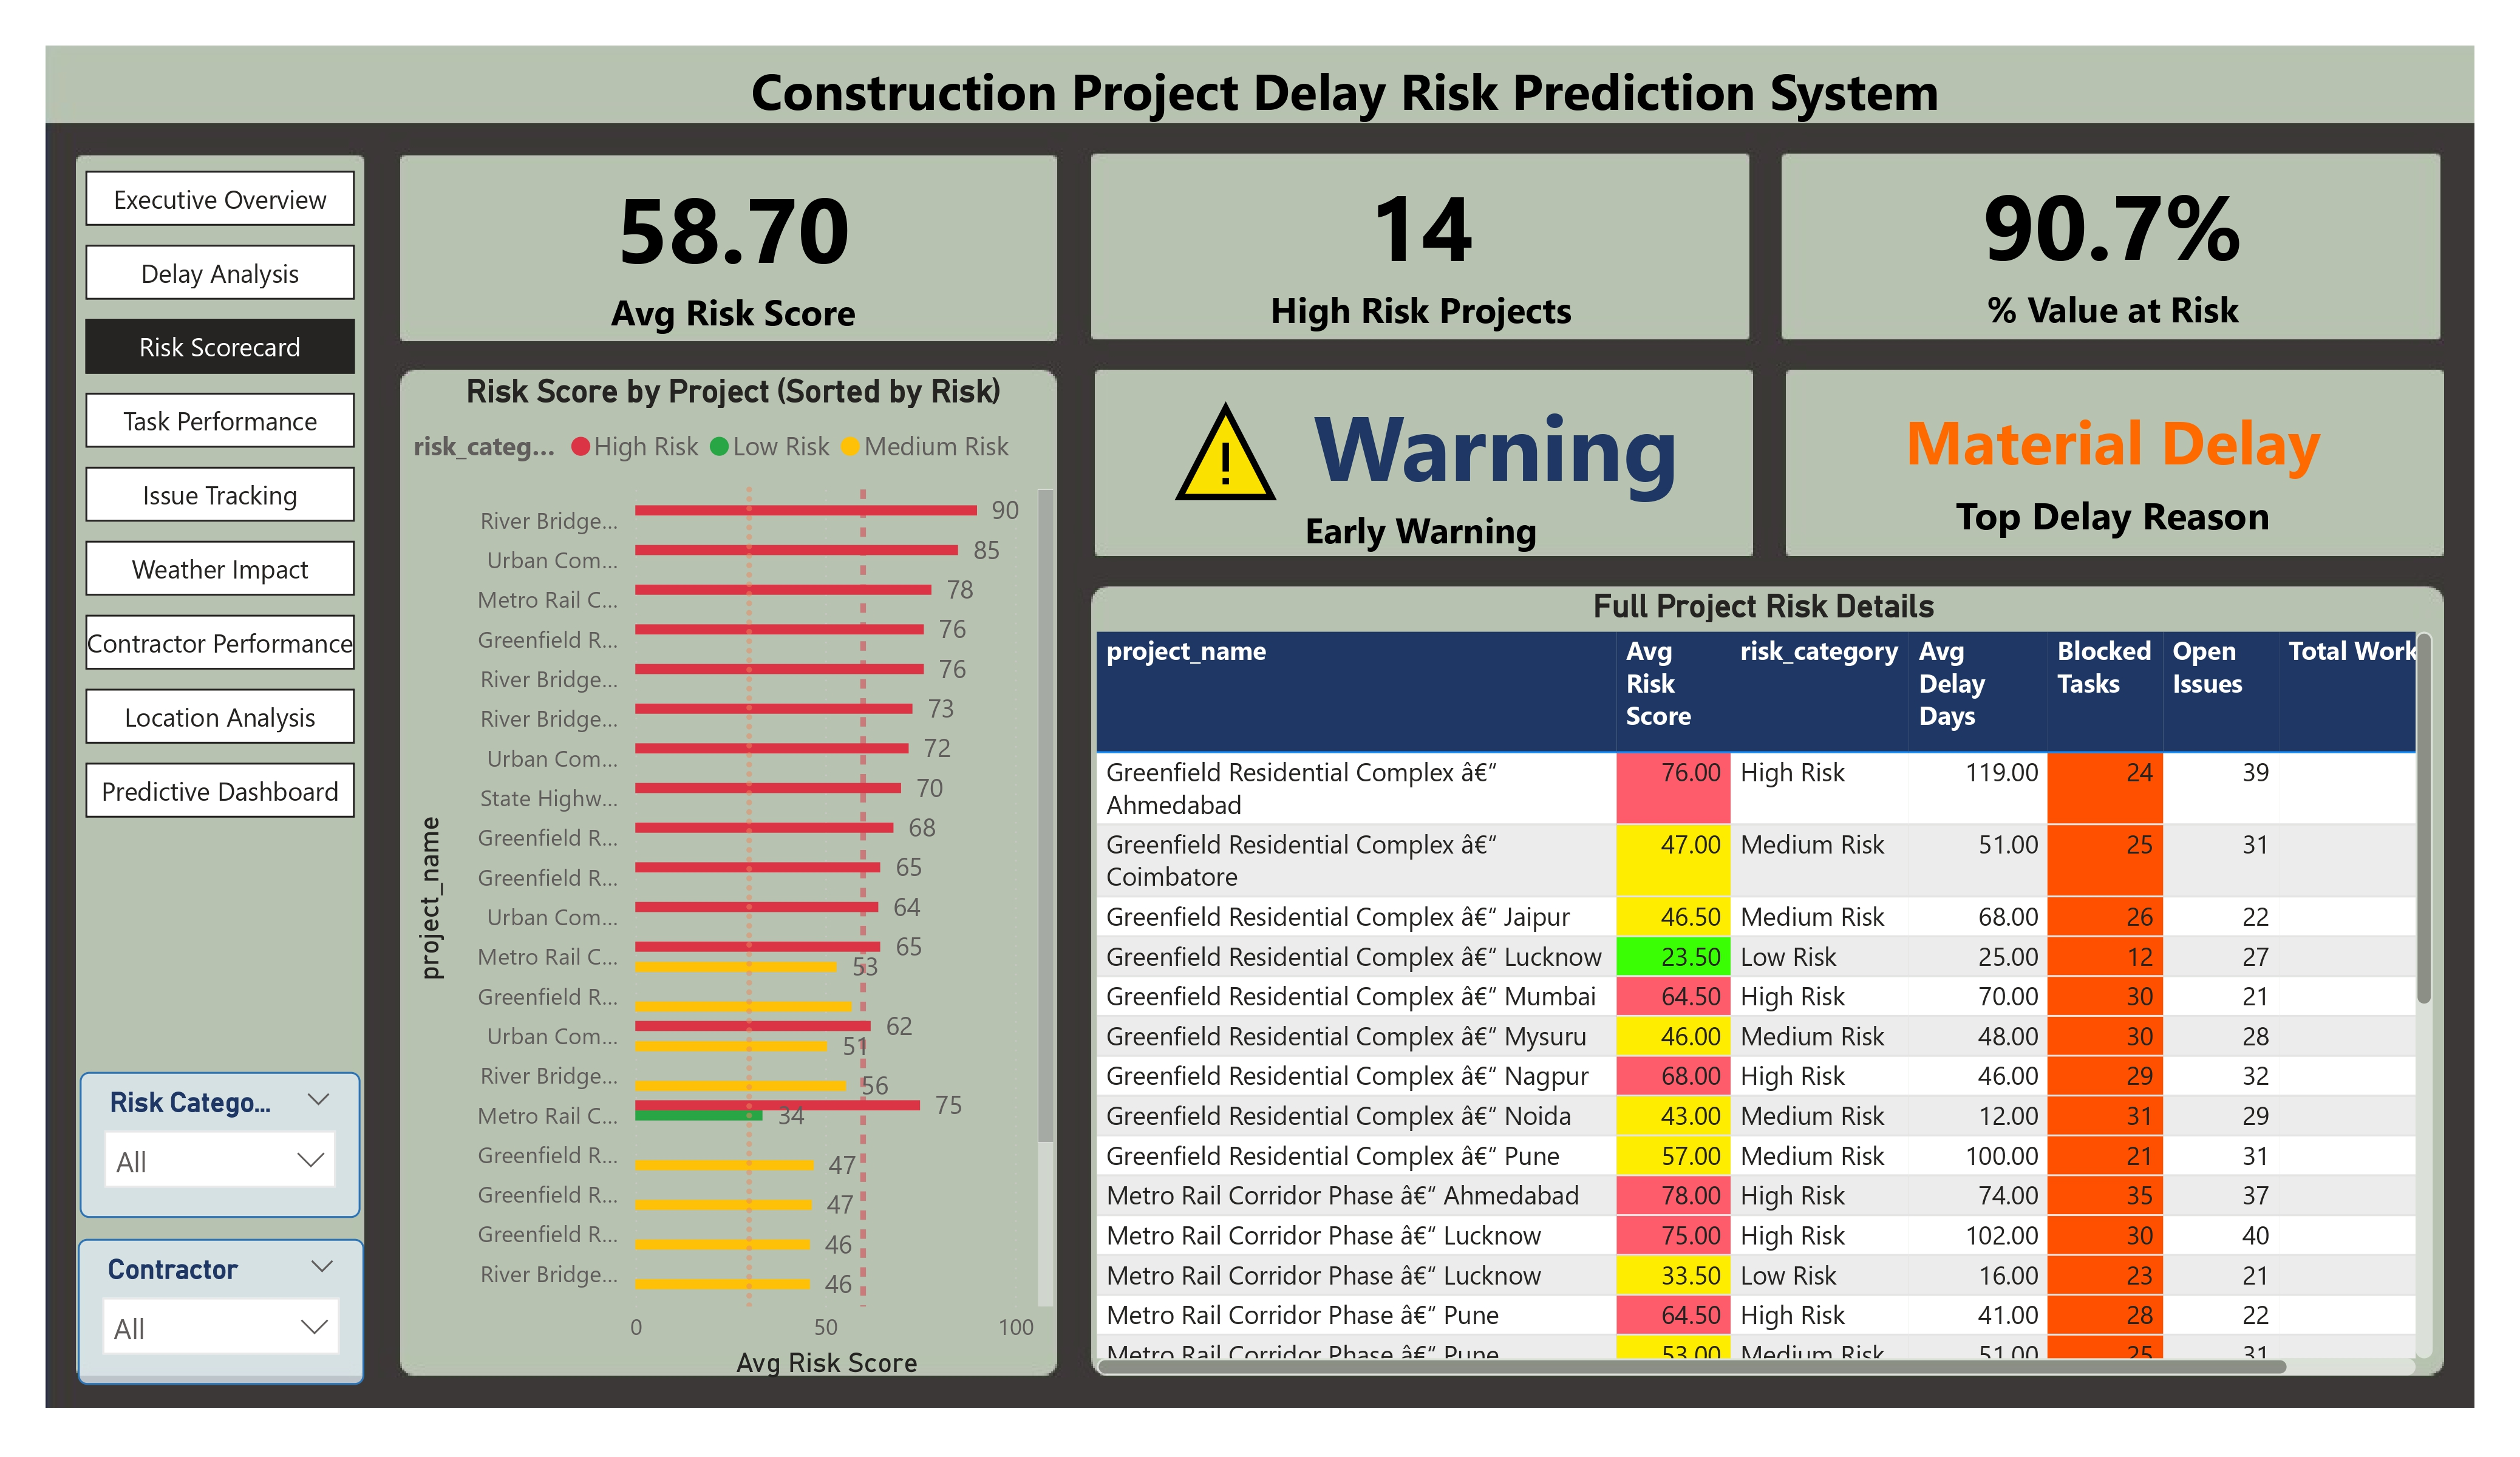

The page's visual inventory and layout, read from the dashboard file:
{"tool":"powerbi","page":{"name":"Risk Scorecard","canvas":[1280,720],"ordinal":2},"visuals":[{"type":"card","fields":{"Values":["**Measures**.Avg Risk Score"]},"box":[188.9,54.4,346.7,105.6],"z":0},{"type":"card","fields":{"Values":["**Measures**.High Risk Projects"]},"box":[547.8,52.2,354.4,107.8],"z":1000},{"type":"card","fields":{"Values":["**Measures**.% Value at Risk"]},"box":[916.7,51.1,345.6,108.9],"z":2000},{"type":"card","fields":{"Values":["**Measures**.Early Warning"]},"box":[547.8,172.2,354.4,100],"z":3000},{"type":"clusteredBarChart","title":"Risk Score by Project (Sorted by Risk)","fields":{"Category":["factprojectmetrics.project_name"],"Y":["**Measures**.Avg Risk Score"],"Series":["factprojectmetrics.risk_category"]},"box":[188.9,172.2,346.7,534.4],"z":4000},{"type":"card","title":"Top Delay Reason Across All Projects","fields":{"Values":["**Measures**.Top Delay Reason"]},"box":[916.7,172.2,345.6,100],"z":5000},{"type":"tableEx","title":"Full Project Risk Details","fields":{"Values":["factprojectmetrics.project_name","**Measures**.Avg Risk Score","factprojectmetrics.risk_category","**Measures**.Avg Delay Days","**Measures**.Blocked Tasks","**Measures**.Open Issues","**Measures**.Total Work Stop Days"]},"box":[547.5,285,715,421.2],"z":6000},{"type":"slicer","fields":{"Values":["factprojectmetrics.risk_category"]},"box":[17.8,541.1,147.8,76.7],"z":7000},{"type":"slicer","fields":{"Values":["factprojectmetrics.contractor_name"]},"box":[16.7,628.9,151.1,76.7],"z":8000},{"type":"pageNavigator","box":[21.2,66.2,141.2,343.8],"z":9000},{"type":"textbox","box":[366.7,0,656,56],"z":9001}]}

Visuals, with their boxes on the page's 1280x720 design canvas (x1, y1, x2, y2). These are canvas units, not pixel positions in the 2520x1457 screenshot, which may show the page scaled, cropped or inside an application window:
card - **Measures**.Avg Risk Score: {"left": 189, "top": 54, "right": 536, "bottom": 160}
card - **Measures**.High Risk Projects: {"left": 548, "top": 52, "right": 902, "bottom": 160}
card - **Measures**.% Value at Risk: {"left": 917, "top": 51, "right": 1262, "bottom": 160}
card - **Measures**.Early Warning: {"left": 548, "top": 172, "right": 902, "bottom": 272}
"Risk Score by Project (Sorted by Risk)" clusteredBarChart: {"left": 189, "top": 172, "right": 536, "bottom": 707}
"Top Delay Reason Across All Projects" card: {"left": 917, "top": 172, "right": 1262, "bottom": 272}
"Full Project Risk Details" tableEx: {"left": 548, "top": 285, "right": 1262, "bottom": 706}
slicer - factprojectmetrics.risk_category: {"left": 18, "top": 541, "right": 166, "bottom": 618}
slicer - factprojectmetrics.contractor_name: {"left": 17, "top": 629, "right": 168, "bottom": 706}
pageNavigator: {"left": 21, "top": 66, "right": 162, "bottom": 410}
textbox: {"left": 367, "top": 0, "right": 1023, "bottom": 56}
